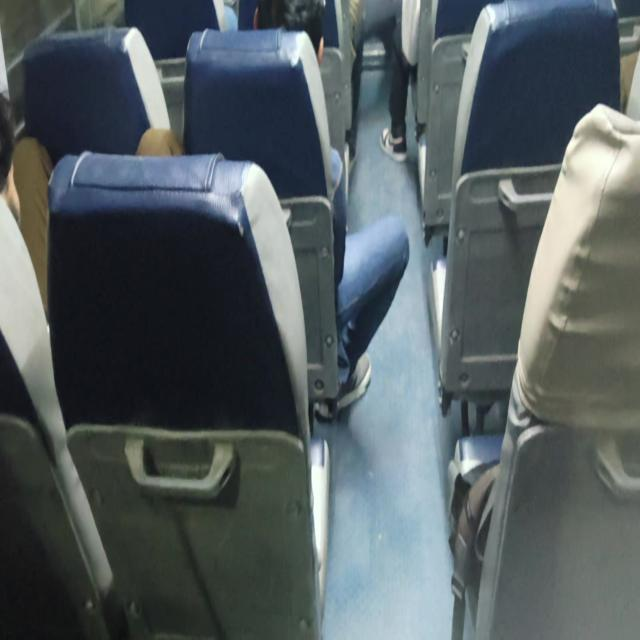person: (256, 0, 336, 71)
